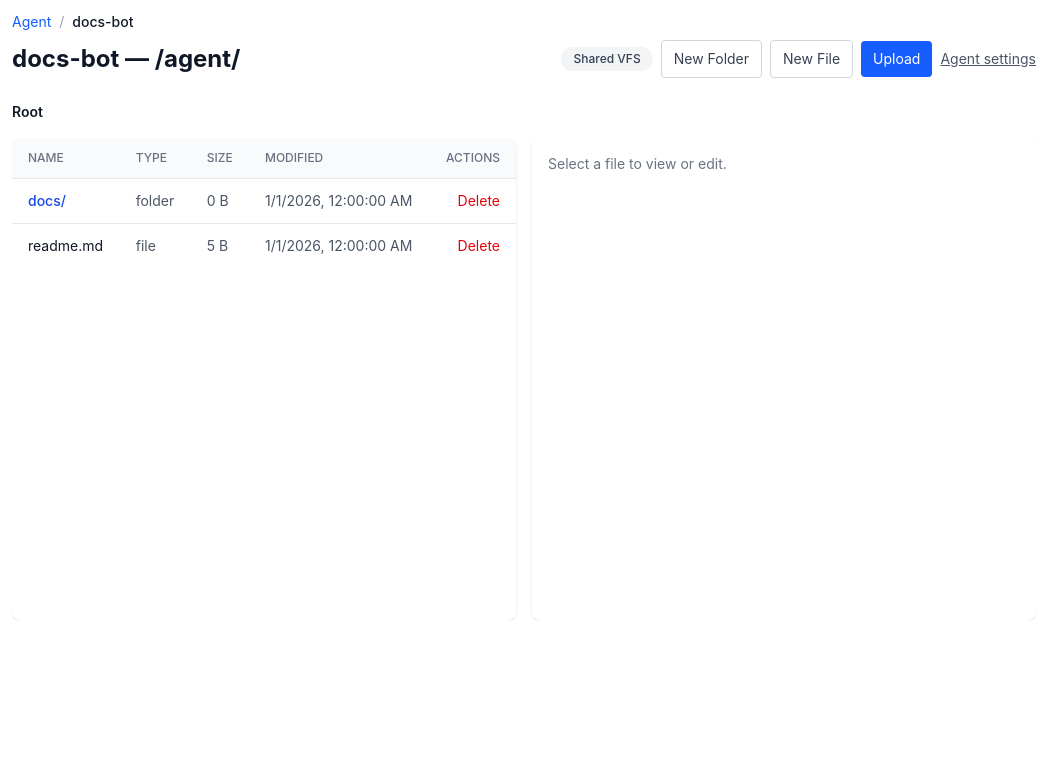
VfsBrowserPage › opens file in editor when clicked
The image size is (1048, 780).
Click the button "readme.md".
click(66, 246)  # box [28, 236, 104, 256]
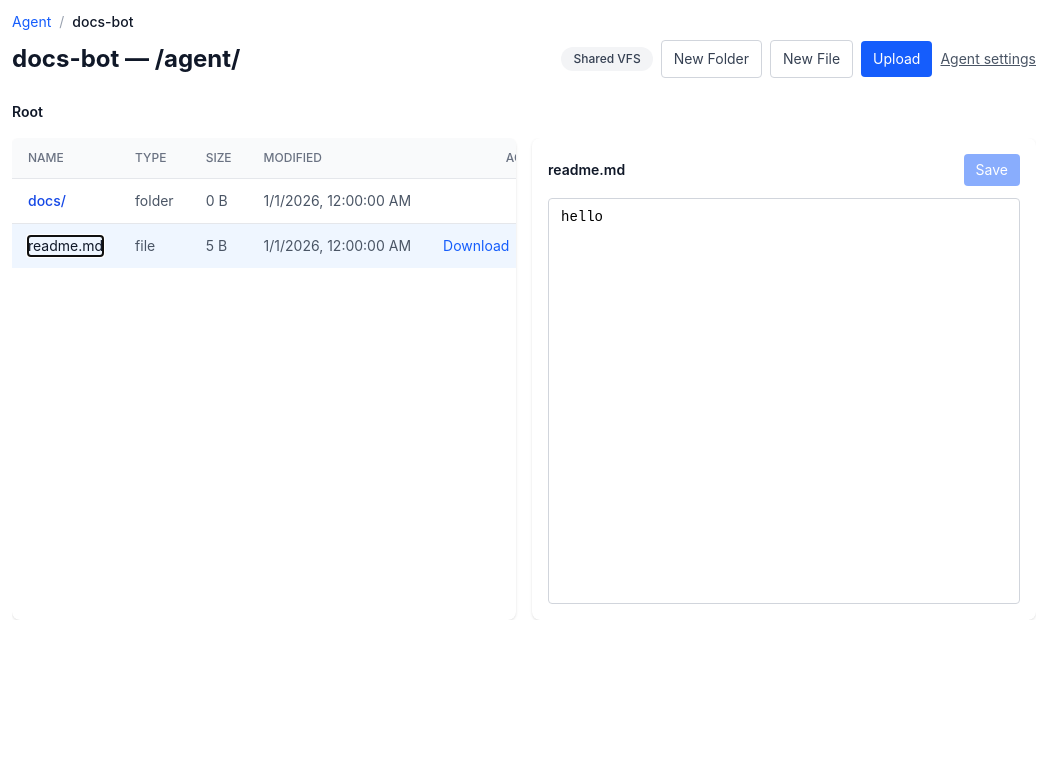
Now the text box holds "hello", box [548, 198, 1020, 604]
